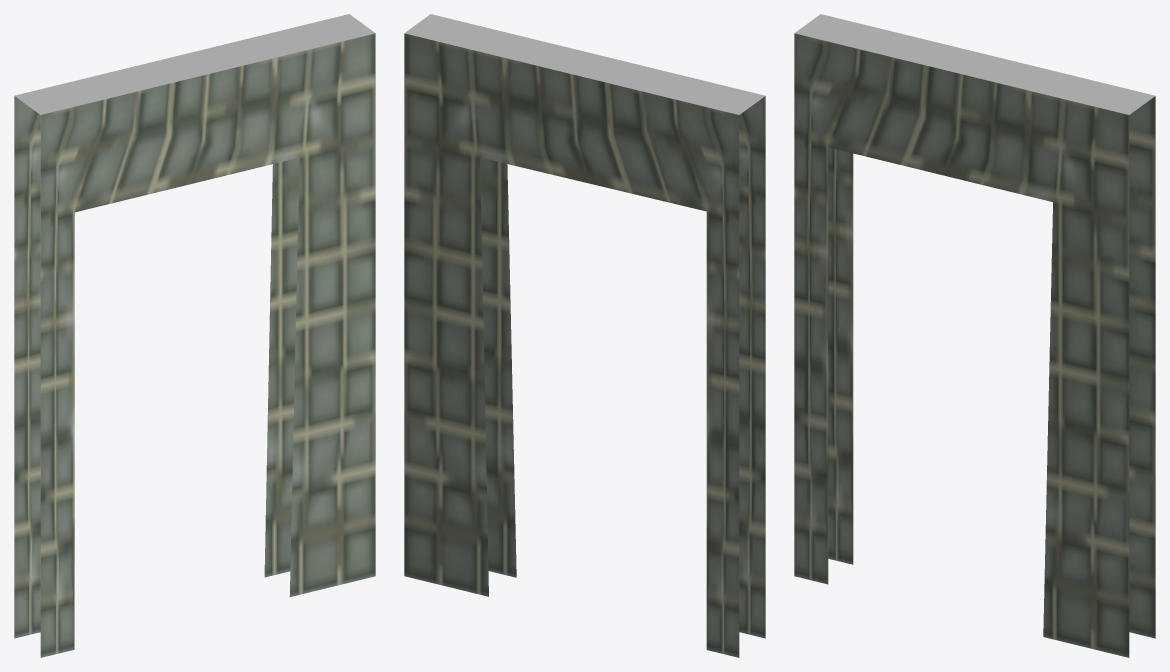
File: W_I2_o [TürkiseFliesen2]_1308.glb
3 views of the same model, side by side, from view 1: azimuth 30°, elevation 25°; view 2: azimuth 150°, elevation 25°; view 3: azimuth 330°, elevation 25° (orthographic).
Visible parts, largest first — view 1: pPlaneShape2, pPlaneShape3, pPlaneShape1; view 2: pPlaneShape3, pPlaneShape2, pPlaneShape1; view 3: pPlaneShape2, pPlaneShape3, pPlaneShape1.
Boxes of the visible parts, <box> form: pPlaneShape2: <box>40,33,375,657</box>; pPlaneShape3: <box>14,96,299,638</box>; pPlaneShape1: <box>14,14,375,114</box>; pPlaneShape3: <box>404,33,739,657</box>; pPlaneShape2: <box>480,96,765,638</box>; pPlaneShape1: <box>405,14,765,114</box>; pPlaneShape2: <box>794,33,1129,657</box>; pPlaneShape3: <box>828,96,1155,638</box>; pPlaneShape1: <box>795,14,1155,114</box>.
Bounding box in the file's own units: 0.2252 × 0.3486 × 0.0308.
Materials: 3 (2 with a texture image).
